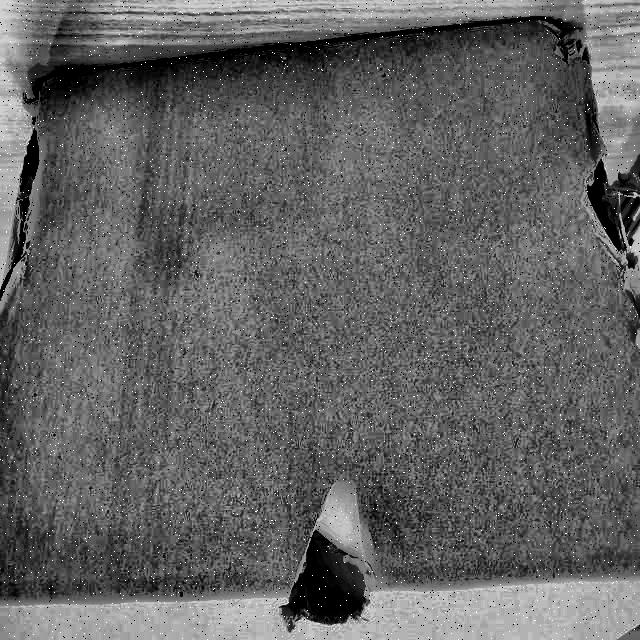box: (1, 3, 640, 640)
hole: (276, 498, 378, 632), (0, 102, 42, 310), (583, 154, 625, 270)
